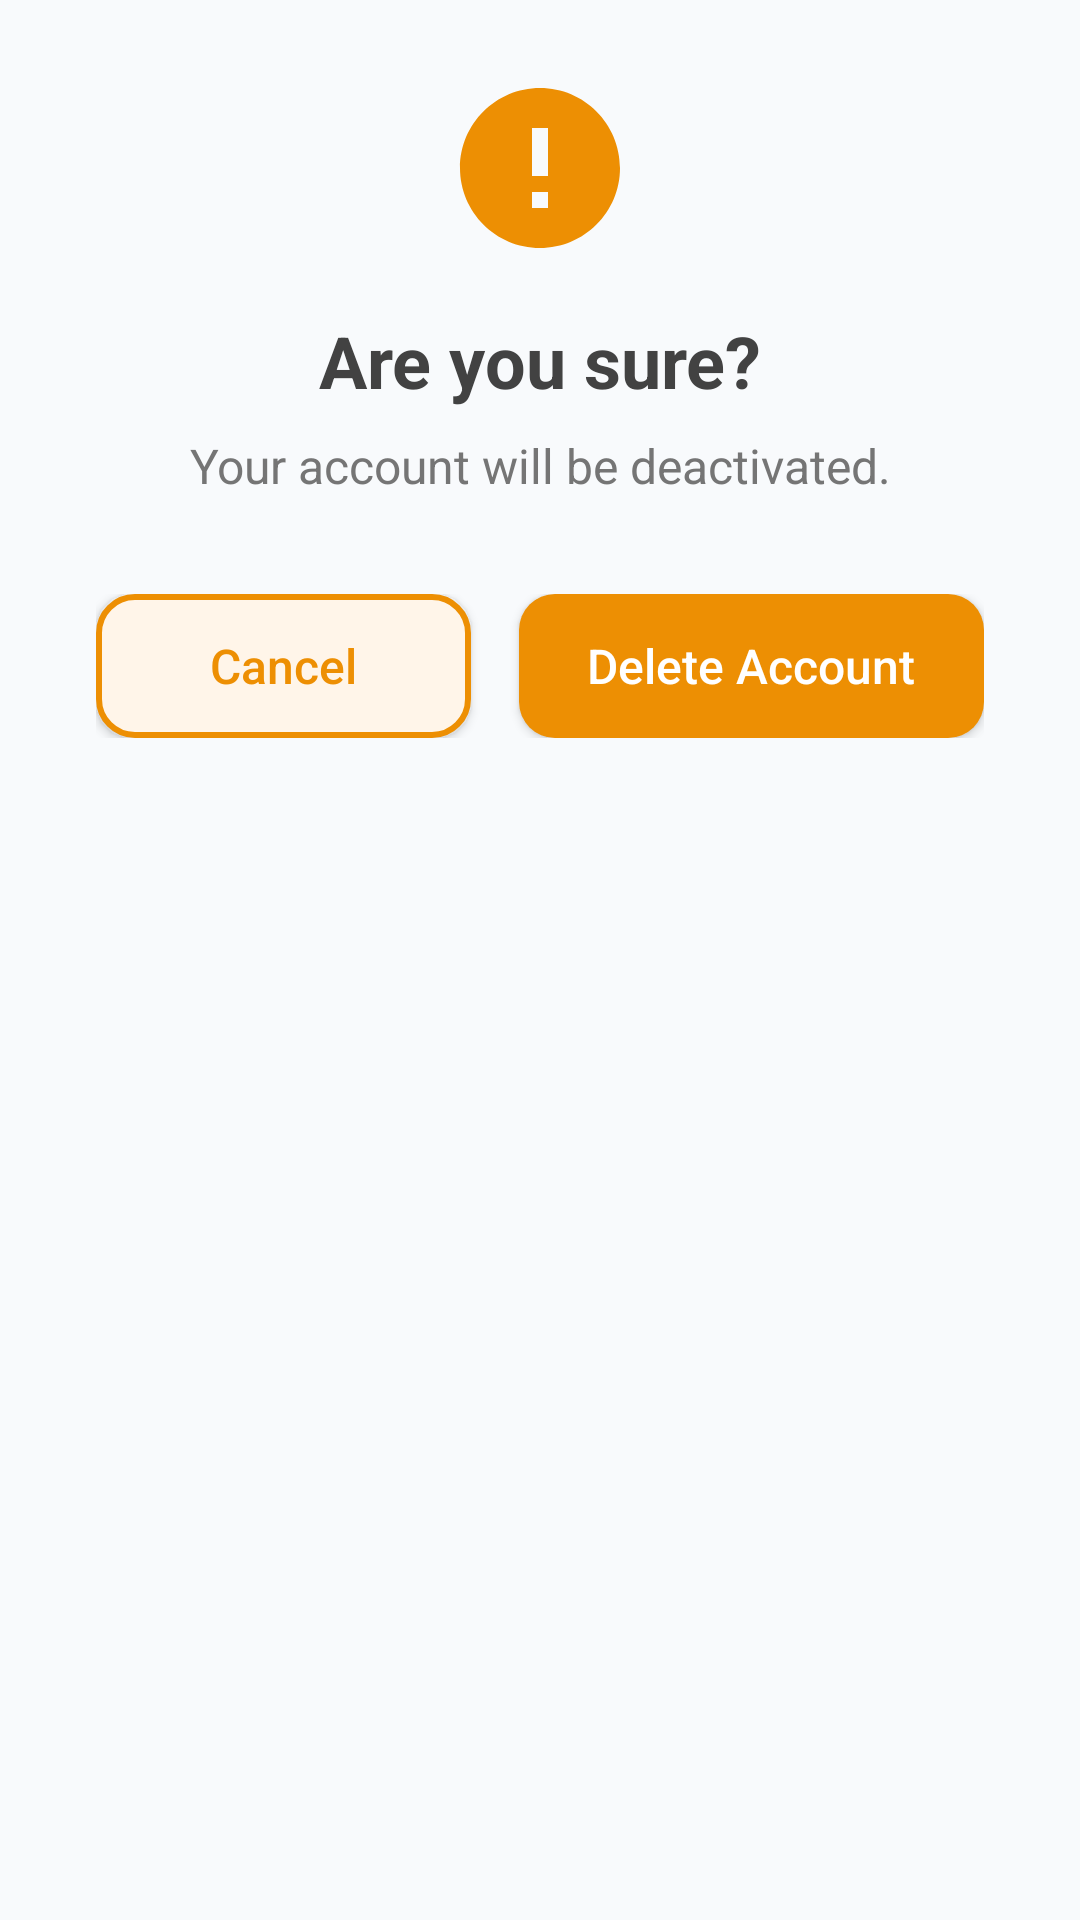

Named icons in this screenshot (1080*1920) and their centers, [x,y]:
warning: [539,168]
